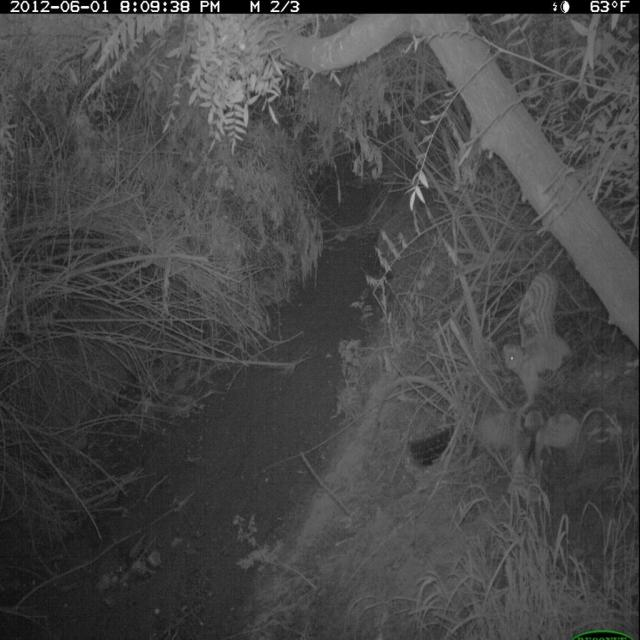bird: (497, 267, 578, 416), (476, 406, 586, 505)
